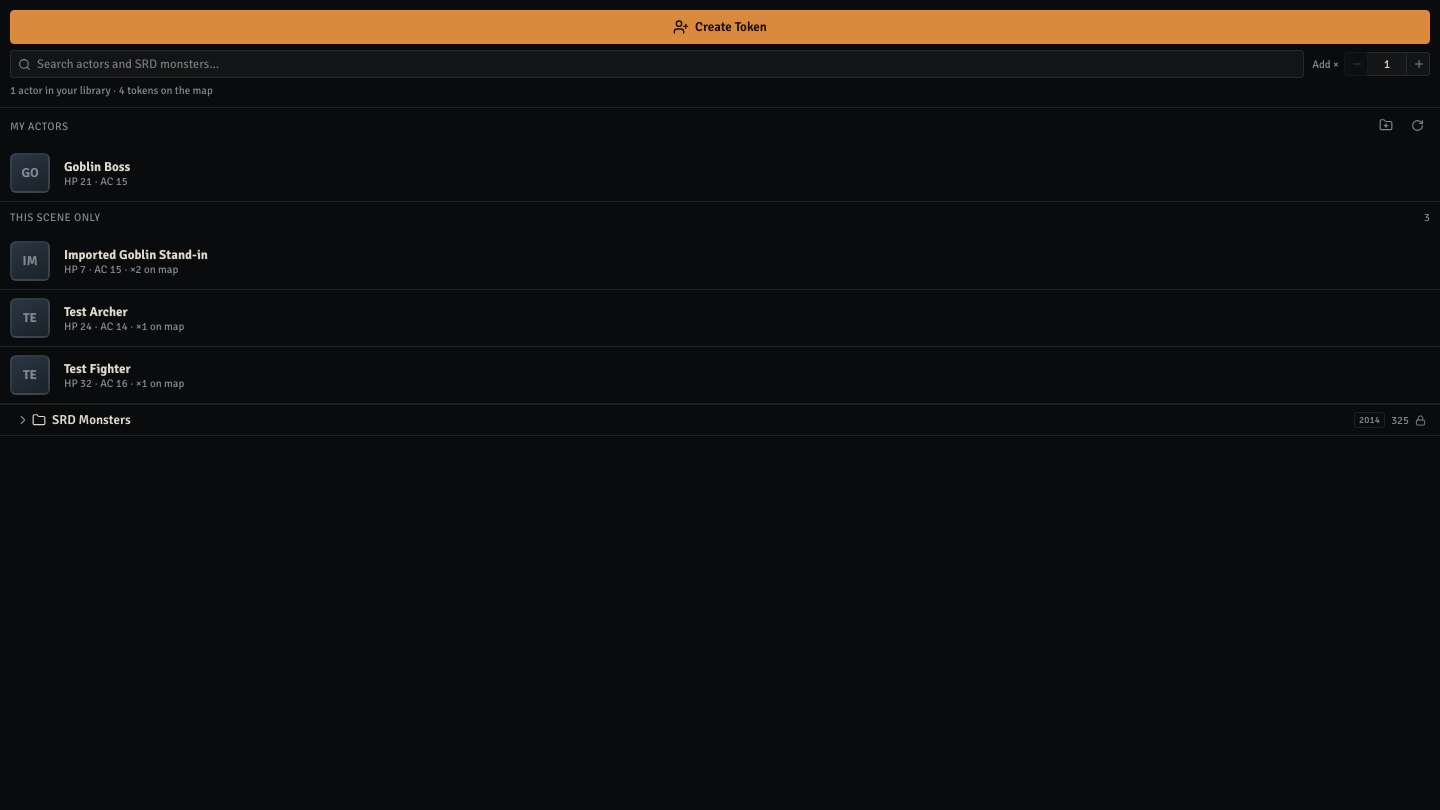
Test: a row › opens its sheet on a double-click, with no token on the map
Double-click the text "Goblin Boss": x=97, y=166 top-left (64, 158), bottom-right (130, 174)
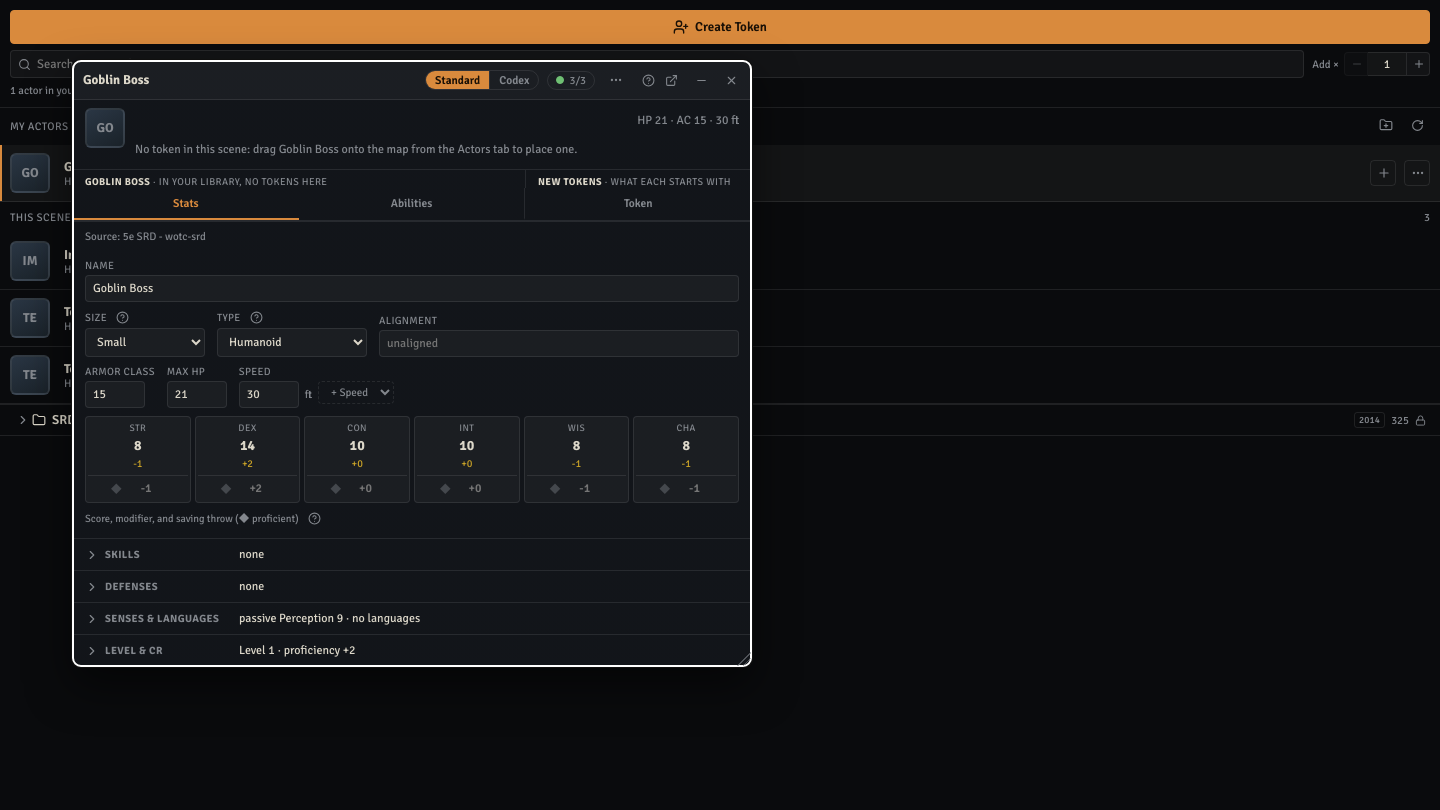
Expected: the dialog named "Goblin Boss sheet" is shown, top-left (72, 60), bottom-right (752, 667)
